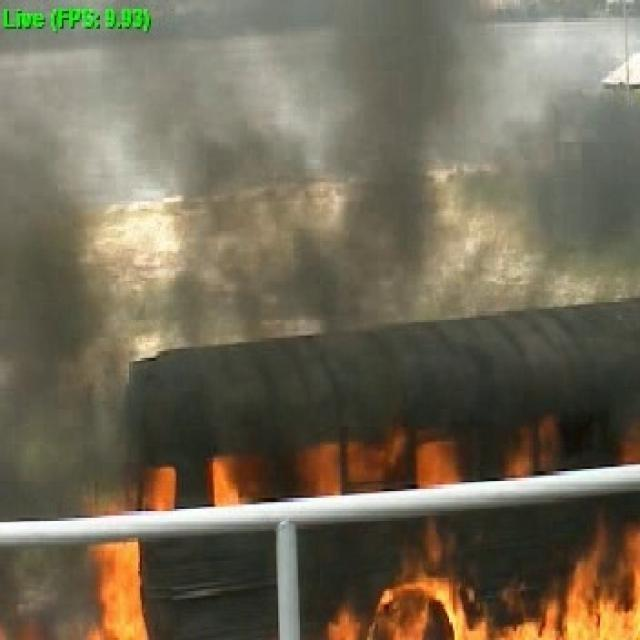Fire: (369, 551, 640, 638), (98, 476, 148, 636)
Smoke: (127, 0, 633, 336), (0, 140, 130, 637)
